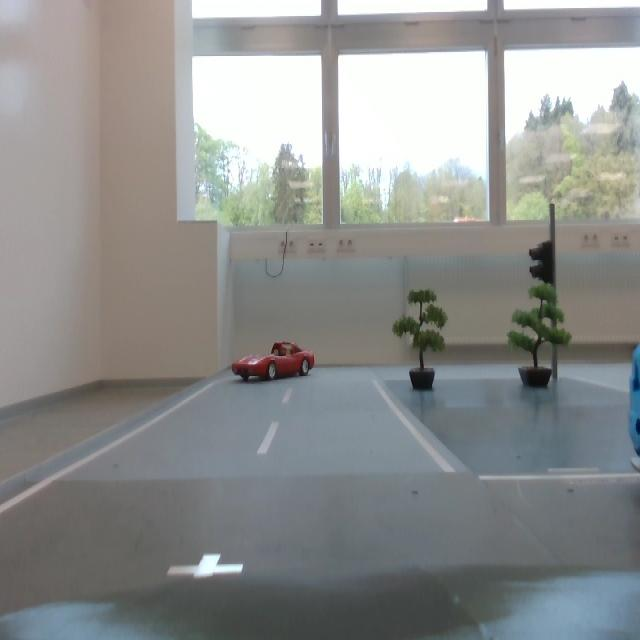car: (230, 337, 318, 382), (626, 329, 640, 480)
potted plant: (508, 282, 577, 367), (390, 285, 448, 367)
traffic light: (528, 236, 558, 297)
